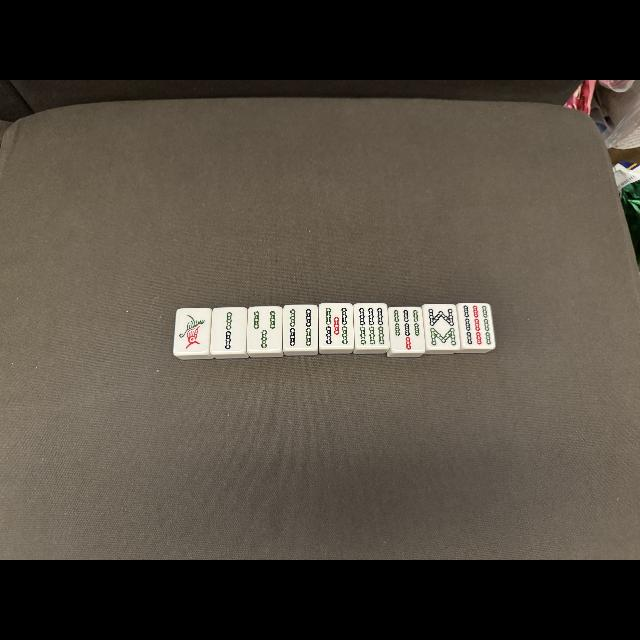b1: (175, 310, 209, 354)
b2: (212, 308, 245, 354)
b3: (248, 308, 282, 352)
b4: (284, 306, 318, 350)
b5: (319, 304, 353, 348)
b6: (355, 304, 389, 348)
b7: (390, 308, 424, 352)
b8: (425, 305, 459, 349)
b9: (460, 304, 494, 348)
